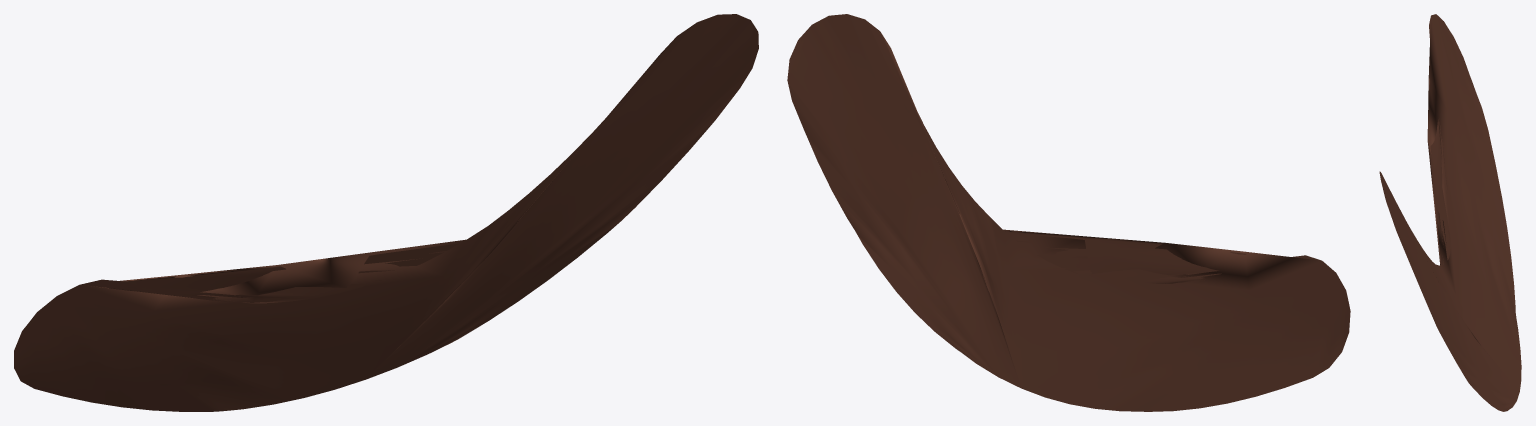
The model's file is mouth_smirk.glb.
3 views of the same model, side by side, from view 1: azimuth 30°, elevation 25°; view 2: azimuth 150°, elevation 25°; view 3: azimuth 270°, elevation 25° (orthographic). The views are drawn at different scales.
Visible parts, largest first — view 1: Cat_mouth_smirk.001; view 2: Cat_mouth_smirk.001; view 3: Cat_mouth_smirk.001.
Part boxes in pixels (left/top/right/bottom): Cat_mouth_smirk.001: left=14, top=14, right=758, bottom=411; Cat_mouth_smirk.001: left=787, top=14, right=1350, bottom=411; Cat_mouth_smirk.001: left=1379, top=14, right=1521, bottom=411.
Size of the model in its own units: 0.0302 by 0.014 by 0.00505.
